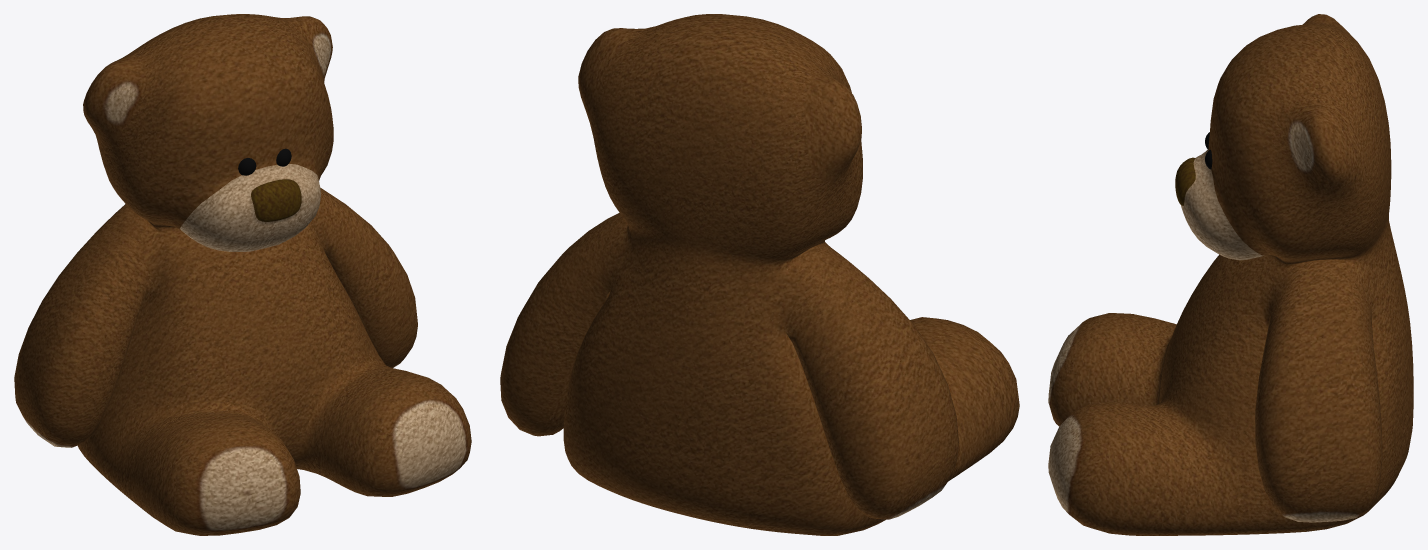
The model's file is teddybear_toy.glb.
3 renders of one model, left to right at view 1: azimuth 30°, elevation 25°; view 2: azimuth 150°, elevation 25°; view 3: azimuth 270°, elevation 25°, orthographic. The views are drawn at different scales.
Parts seen in each view (by area): view 1: Cube; view 2: Cube; view 3: Cube.
Boxes of the visible parts, x1,y1,x2,y2 form: Cube: (14,14,471,535); Cube: (500,14,1019,535); Cube: (1048,14,1413,535).
Size of the model in its own units: 419 by 440 by 337.
2 materials, 1 textured.
